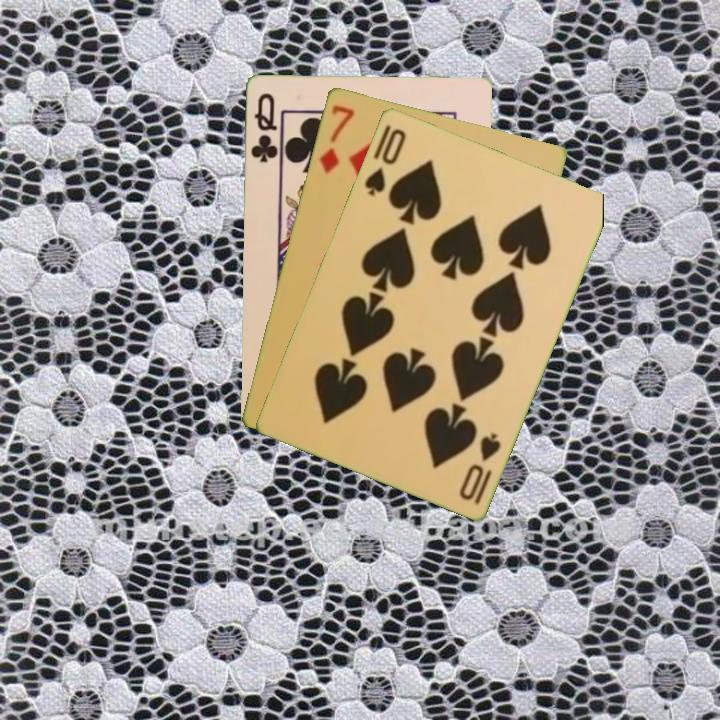10s: (455, 428, 504, 507), (360, 124, 409, 199)
7d: (315, 100, 357, 176)
Qc: (247, 89, 280, 165)
